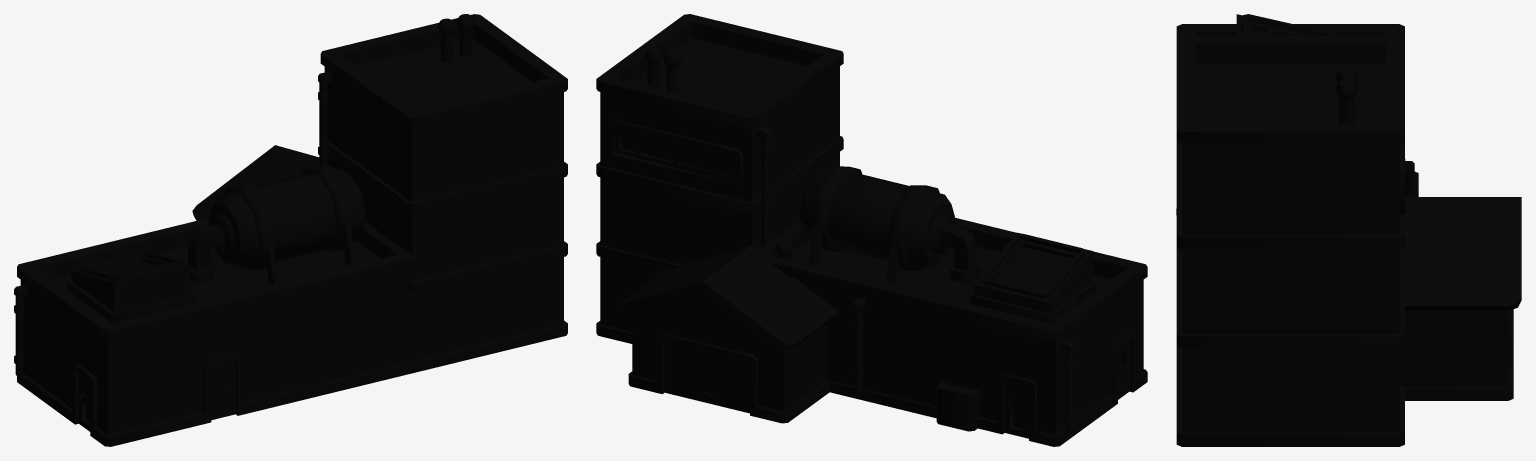
The model's file is building-r.glb.
The picture shows the model from 3 angles, left to right: view 1: azimuth 30°, elevation 25°; view 2: azimuth 150°, elevation 25°; view 3: azimuth 270°, elevation 25°; orthographic projection. The views are drawn at different scales.
Visible parts, largest first — view 1: building-r; view 2: building-r; view 3: building-r.
Boxes of the visible parts, x1=… form: building-r: x1=14, y1=14, x2=567, y2=446; building-r: x1=596, y1=14, x2=1147, y2=446; building-r: x1=1176, y1=14, x2=1521, y2=446.
Size of the model in its own units: 2.48 by 1.39 by 1.27.
1 material, 1 textured.
